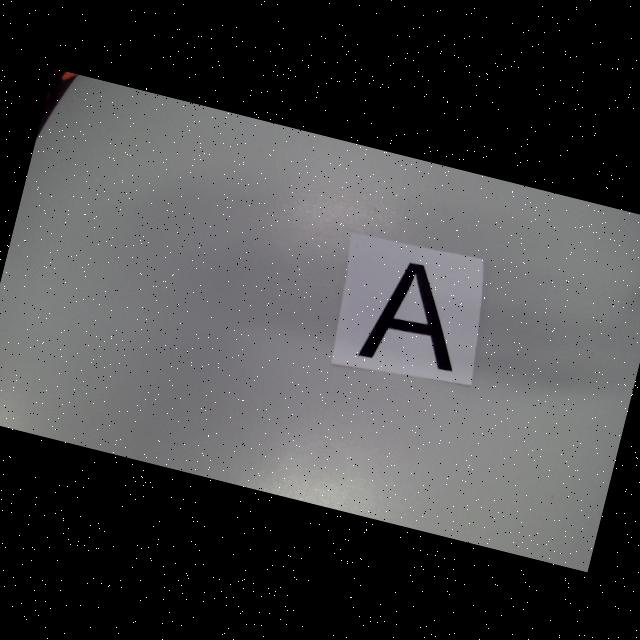FAKE: (358, 255, 476, 378)
